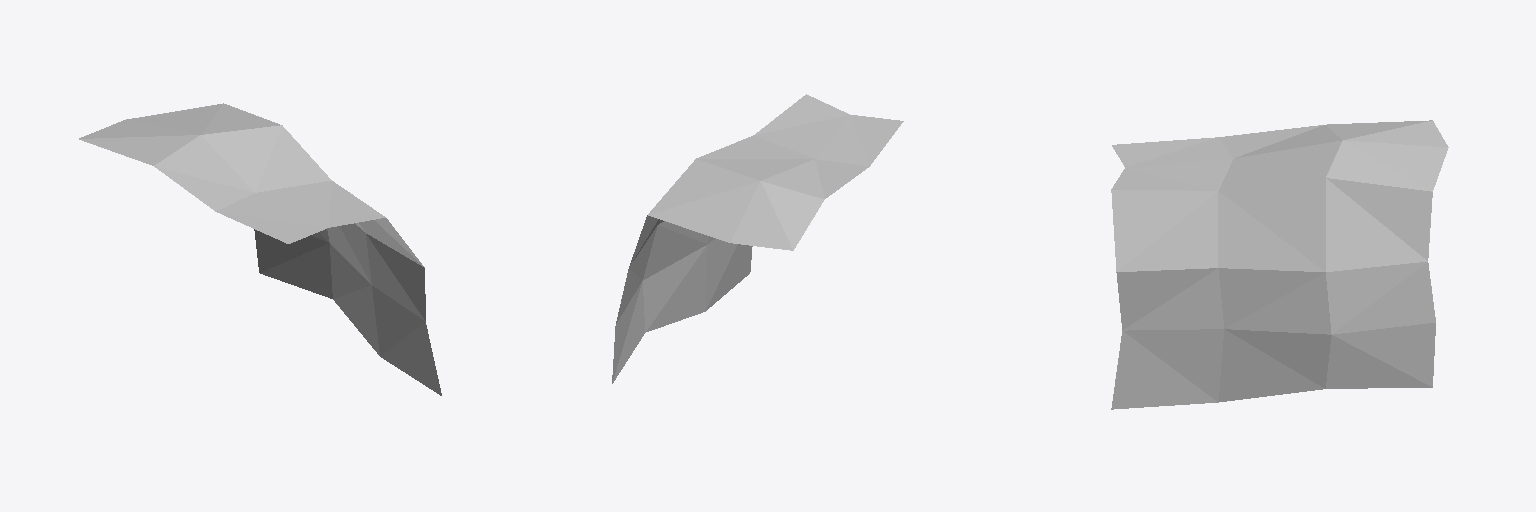
The model's file is scaledMap.obj.
3 views of the same model, side by side, from view 1: azimuth 30°, elevation 25°; view 2: azimuth 150°, elevation 25°; view 3: azimuth 270°, elevation 25° (orthographic).
Parts seen in each view (by area): view 1: Map; view 2: Map; view 3: Map.
Boxes of the visible parts, <box> form: Map: <box>79,103,441,395</box>; Map: <box>612,94,903,383</box>; Map: <box>1111,120,1448,409</box>.
Size of the model in its own units: 34.81 by 33.88 by 49.86.